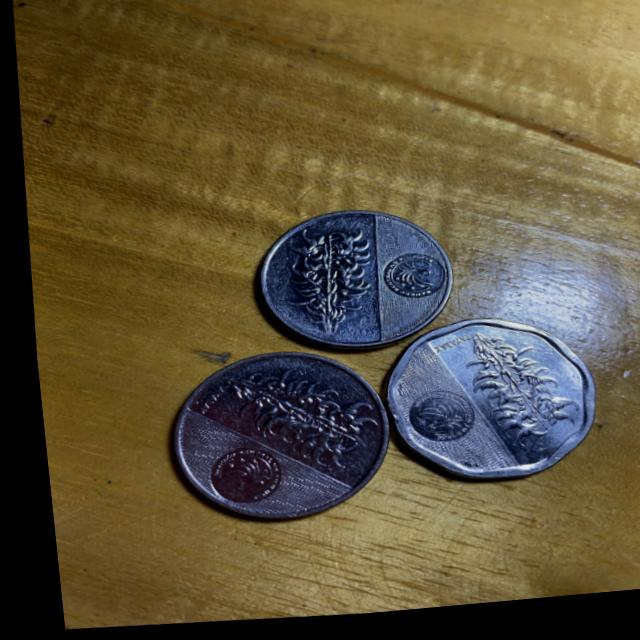5_New_Back: (214, 369, 379, 477), (448, 332, 572, 458), (269, 226, 381, 346)
